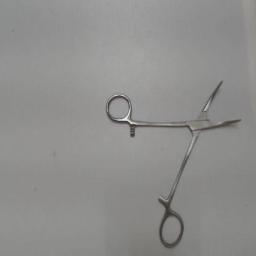Crile Artery Forceps: (104, 74, 244, 252)
